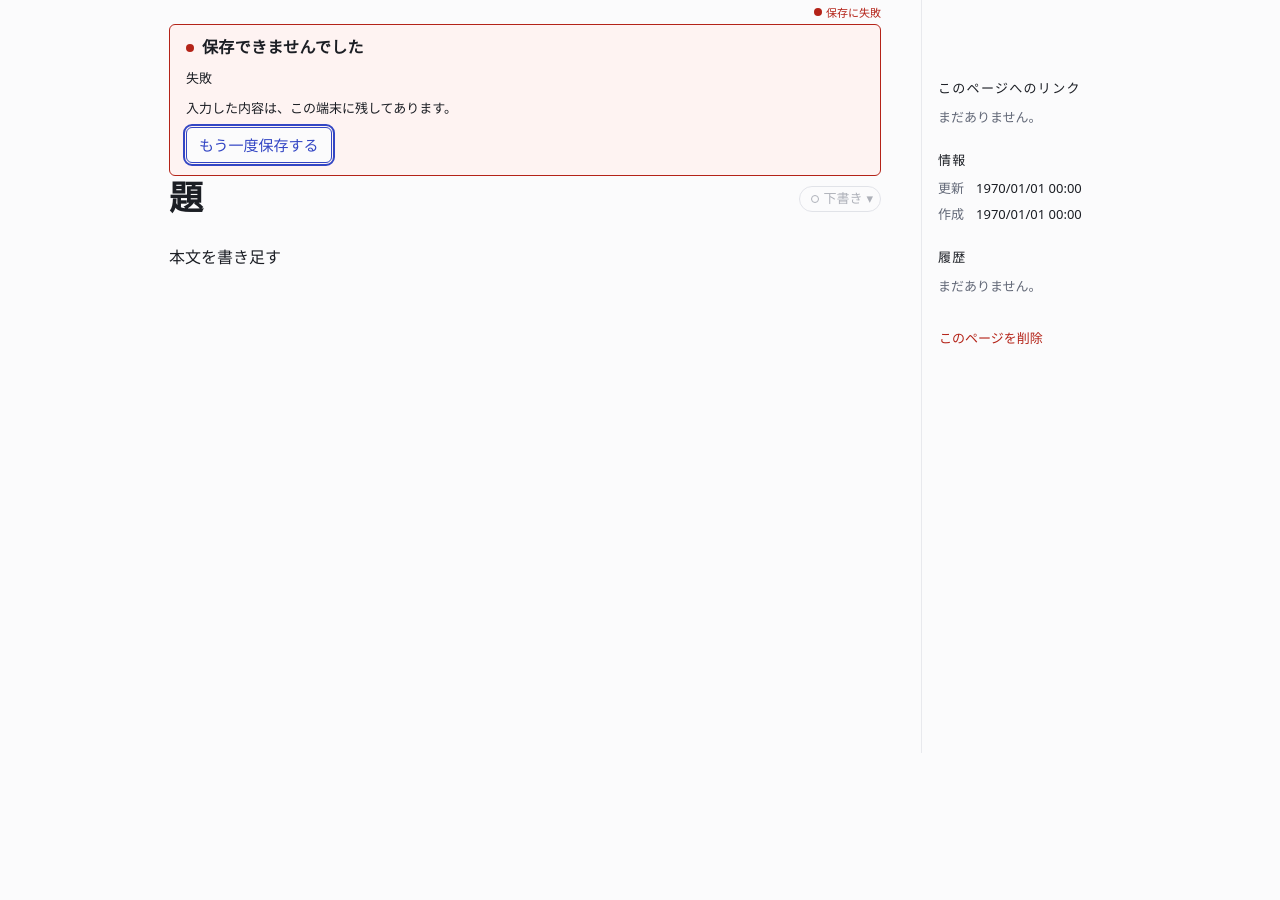
Scenario: PageEditor と本文のエディタ › 再送のボタンへ focus を戻す印 › 待つ間に何も無い所を押して focus を外したら、作り直されたボタンへ戻さない
This screenshot has width=1280, height=900.
Click the button "もう一度保存する" at {"x": 259, "y": 145}, box 186,127 -> 332,163
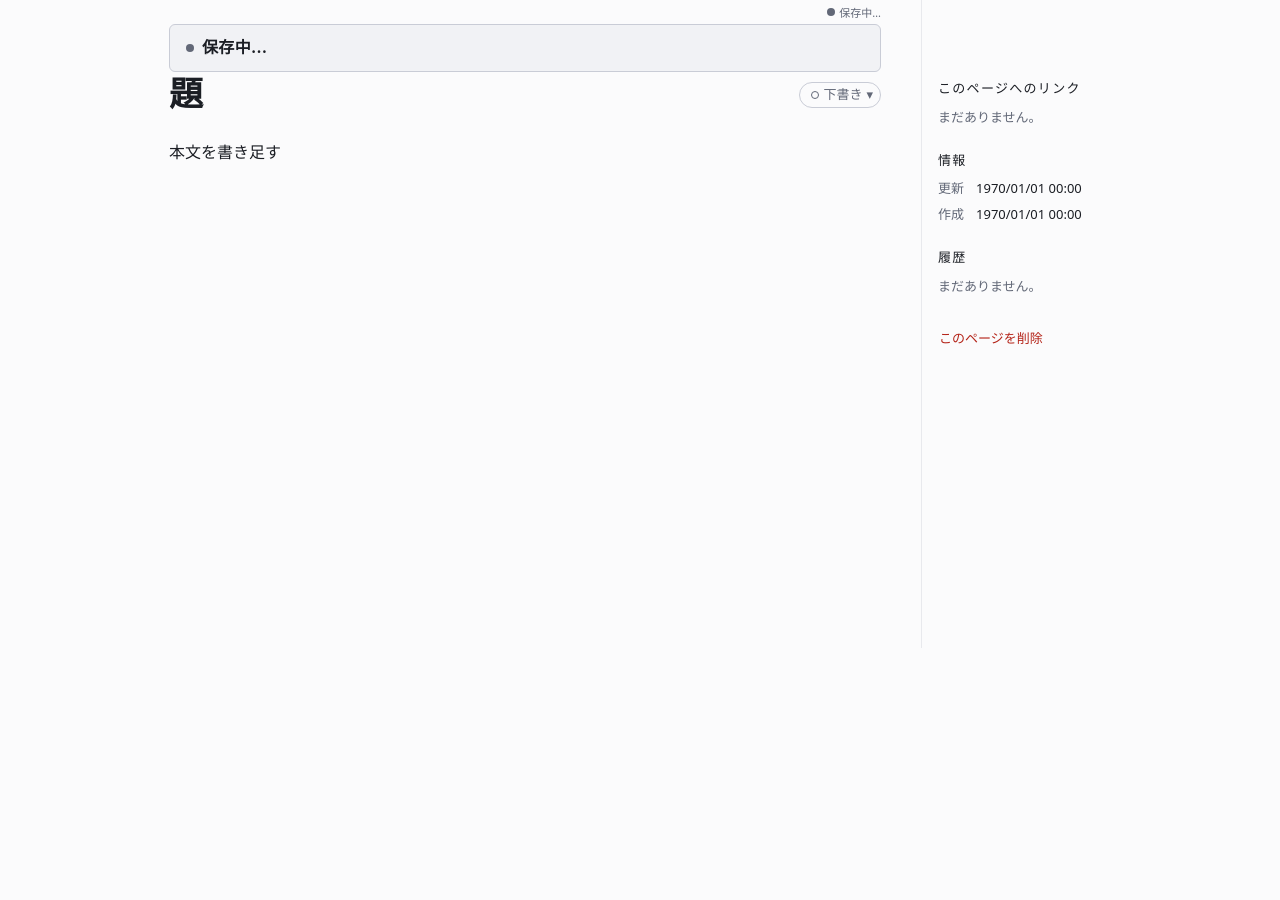
Expected: the button with class "button-main" is gone
Press the mouse on the element that starts with "保存中…" at {"x": 640, "y": 324}, box 0,0 -> 1279,648
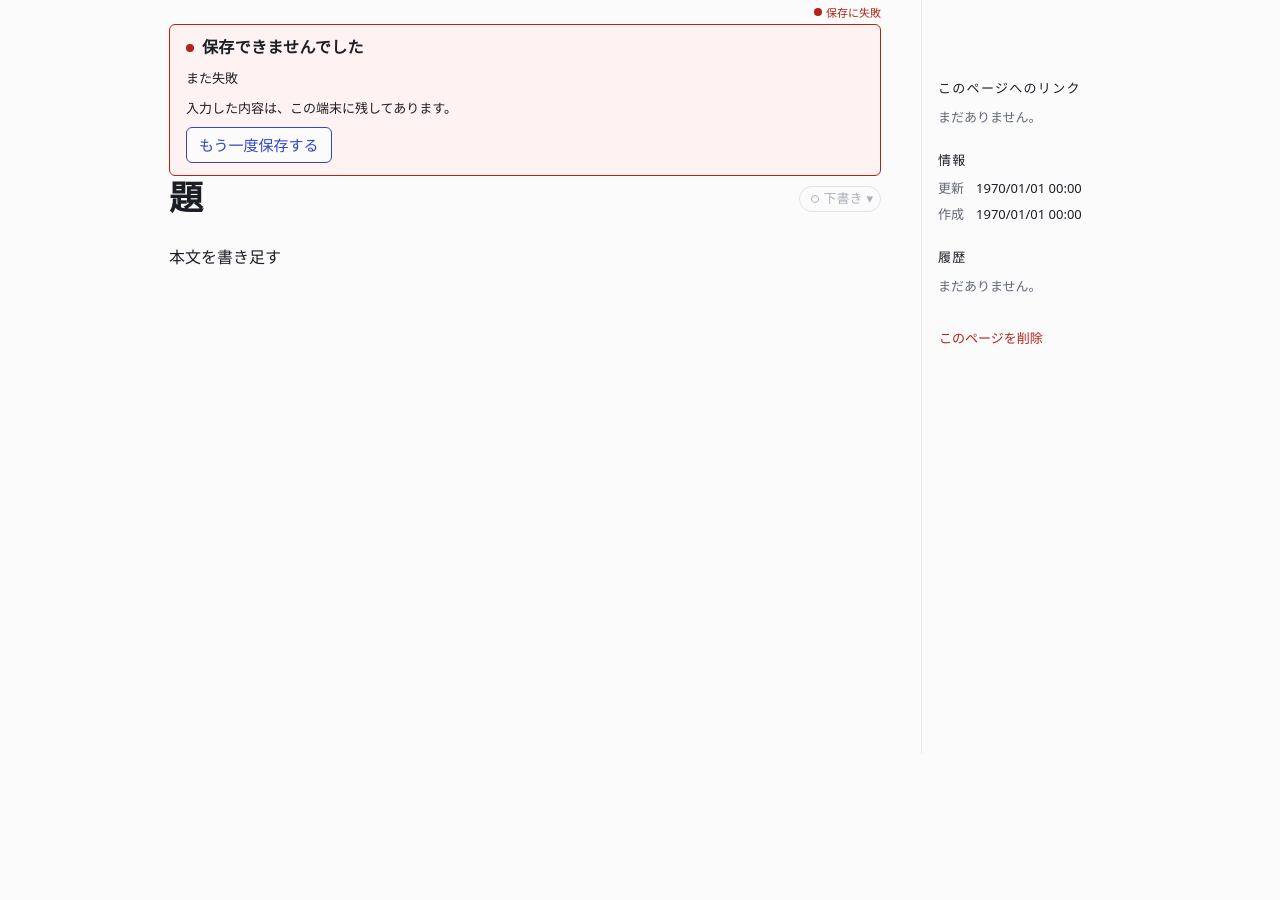
Expected: the button "もう一度保存する" is enabled, 186,127 -> 332,163
